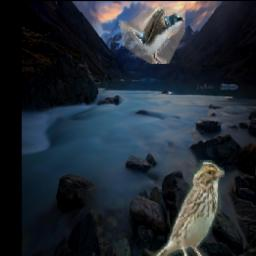Sparrow: (148, 160, 225, 256)
Swallow: (119, 5, 185, 65)
